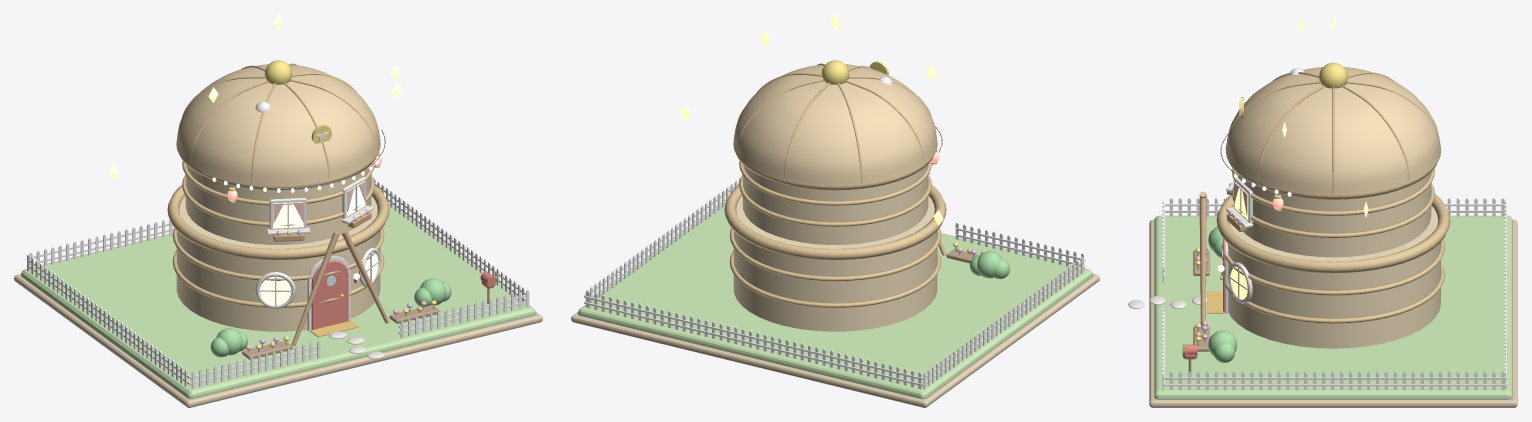
Rendered from building_dumpling_L10.glb.
3 views of the same model, side by side, from view 1: azimuth 30°, elevation 25°; view 2: azimuth 150°, elevation 25°; view 3: azimuth 270°, elevation 25° (orthographic). The views are drawn at different scales.
Visible parts, largest first — view 1: dumpling_L10, object 1, object 3; view 2: dumpling_L10; view 3: dumpling_L10, object 2.
Boxes of the visible parts, x1,y1,x2,y2 form: dumpling_L10: (14, 14, 542, 407); object 1: (260, 276, 291, 304); object 3: (273, 202, 303, 228); dumpling_L10: (571, 14, 1099, 407); dumpling_L10: (1128, 14, 1517, 407); object 2: (1230, 267, 1247, 299).
Size of the model in its own units: 26.61 by 20.56 by 23.89.
